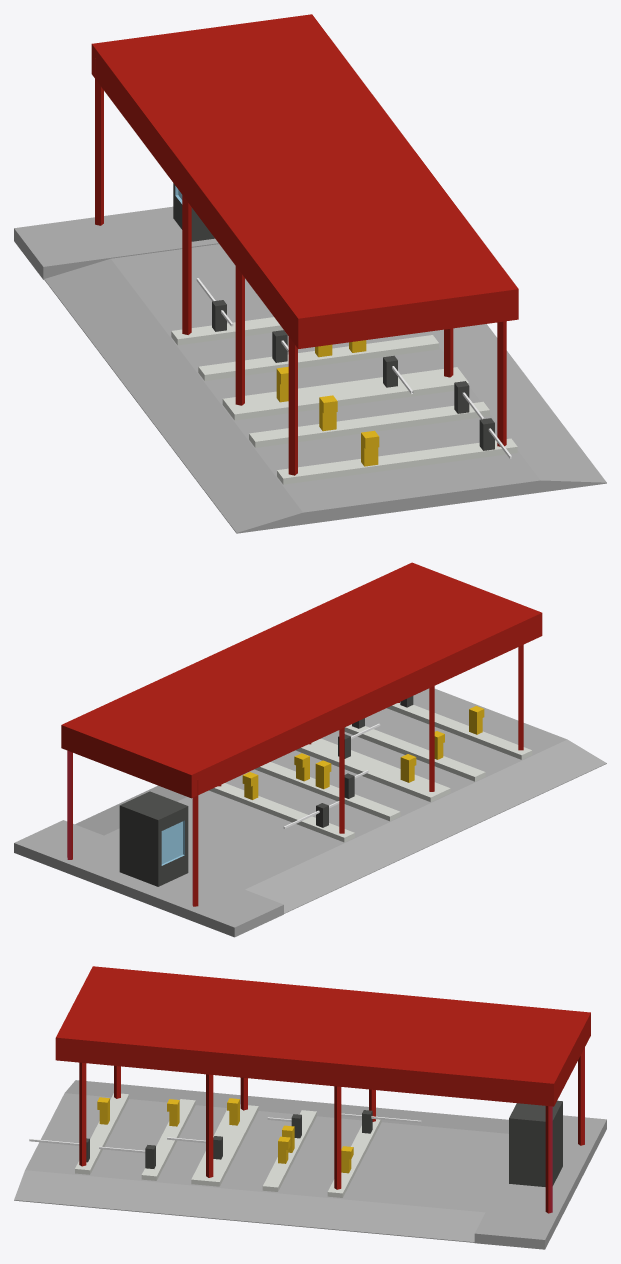
File: porte nutibara vehicular lod 2 vu.fbx
3 views of the same model, one above another, from view 1: azimuth 30°, elevation 25°; view 2: azimuth 150°, elevation 25°; view 3: azimuth 270°, elevation 25° (orthographic). The views are drawn at different scales.
Parts seen in each view (by area): view 1: Porteria nutibara vehicular lod 2; view 2: Porteria nutibara vehicular lod 2; view 3: Porteria nutibara vehicular lod 2.
Part boxes in pixels (left/top/right/bottom): Porteria nutibara vehicular lod 2: left=14, top=14, right=606, bottom=533; Porteria nutibara vehicular lod 2: left=14, top=562, right=606, bottom=937; Porteria nutibara vehicular lod 2: left=14, top=966, right=606, bottom=1249.
Size of the model in its own units: 2258 by 878 by 3347.
